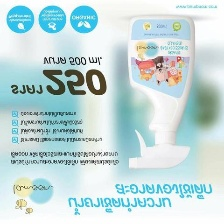cleaning_solution: (123, 12, 198, 171)
